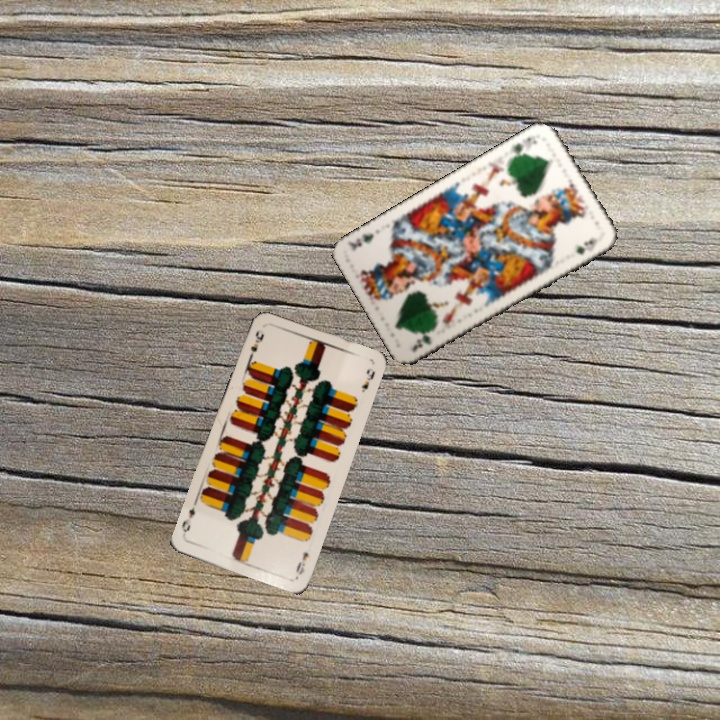E9: (245, 326, 266, 363), (292, 548, 311, 577)
GK: (507, 131, 540, 161), (407, 331, 434, 355)
